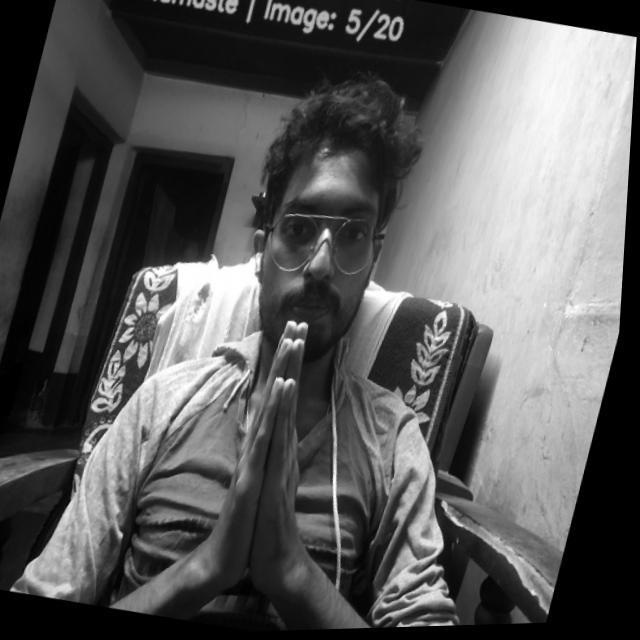Namaste: (192, 310, 361, 609)
